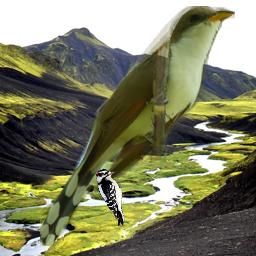Cuckoo: (40, 6, 235, 246)
Woodpecker: (96, 169, 125, 226)
